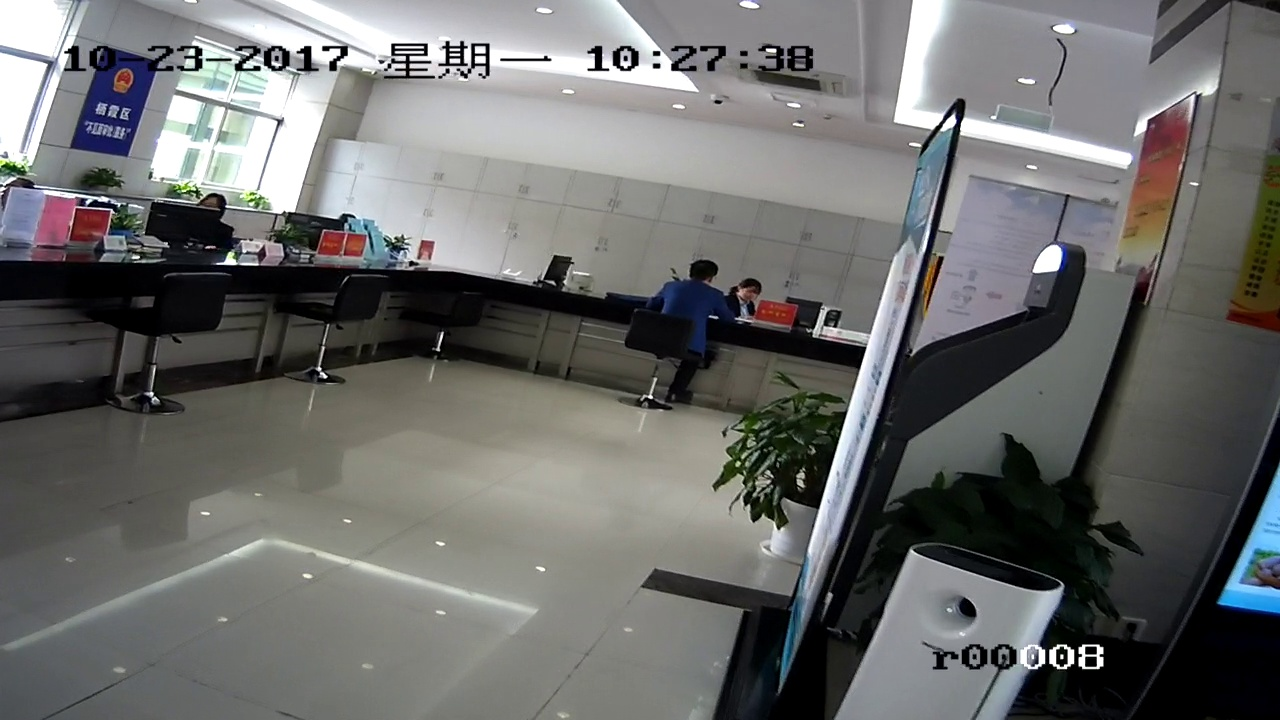billboard: (85, 46, 133, 154)
chair: (109, 266, 217, 429), (299, 275, 387, 387), (623, 312, 688, 430), (415, 282, 480, 381)
monitor: (142, 200, 220, 250)
person: (674, 253, 726, 367), (728, 271, 762, 324)
